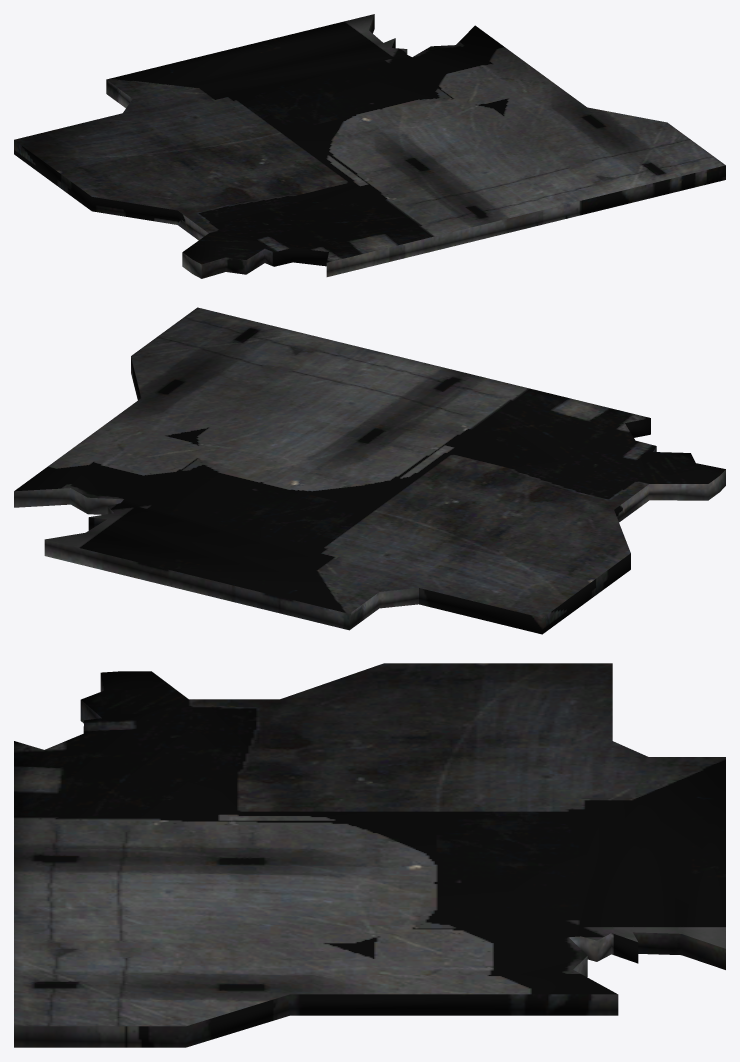
File: spacejunk7.fbx
The picture shows the model from 3 angles, top to bottom: view 1: azimuth 30°, elevation 25°; view 2: azimuth 150°, elevation 25°; view 3: azimuth 270°, elevation 25°; orthographic projection. The views are drawn at different scales.
Parts seen in each view (by area): view 1: PipelineFBX; view 2: PipelineFBX; view 3: PipelineFBX.
Boxes of the visible parts, x1,y1,x2,y2 form: PipelineFBX: (14,14,725,278); PipelineFBX: (14,307,725,634); PipelineFBX: (14,663,725,1047).
Bounding box in the file's own units: 101 × 2.76 × 83.64.
Materials: 1 (1 with a texture image).
